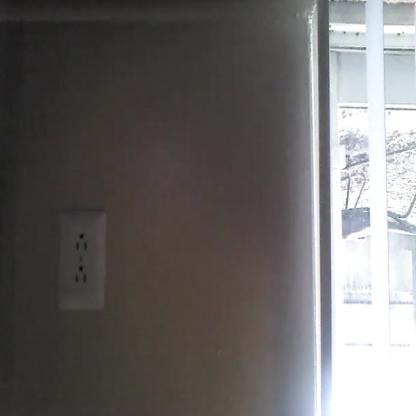OUTLET: (58, 211, 106, 310)
